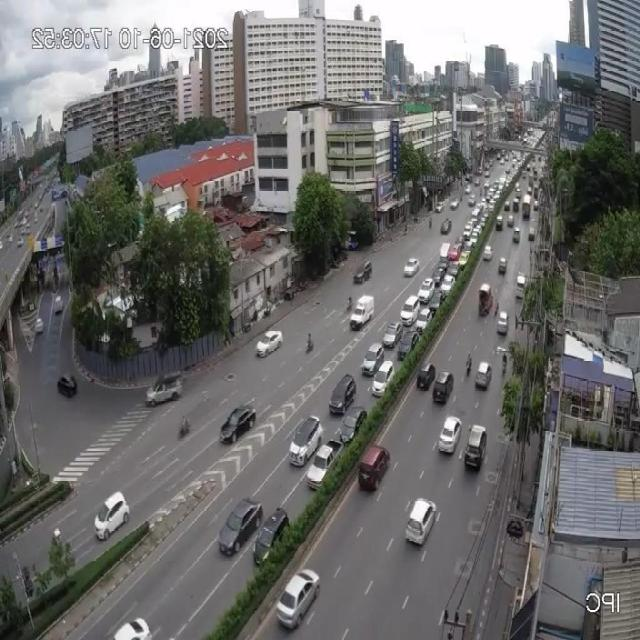Car: (276, 566, 320, 630), (219, 496, 264, 556), (252, 506, 290, 565), (94, 490, 130, 541), (289, 416, 322, 467), (307, 441, 341, 490), (220, 403, 258, 445), (358, 444, 391, 491), (405, 497, 436, 547), (146, 371, 184, 408), (329, 373, 357, 416), (338, 406, 367, 446), (464, 423, 487, 470), (438, 416, 463, 456), (112, 617, 152, 640), (372, 360, 394, 397), (255, 330, 283, 358), (362, 342, 384, 377), (433, 371, 454, 404), (398, 330, 419, 360), (382, 321, 402, 350), (417, 361, 436, 391), (400, 296, 419, 326), (58, 374, 78, 398), (353, 260, 372, 284), (418, 278, 434, 306), (416, 308, 433, 334), (476, 362, 492, 389), (427, 294, 443, 317), (440, 275, 455, 298), (432, 264, 447, 286), (496, 311, 509, 335), (403, 258, 419, 276), (439, 242, 451, 264), (472, 225, 484, 246), (516, 272, 526, 296), (458, 250, 470, 270), (466, 232, 478, 252), (438, 254, 450, 274), (447, 261, 460, 278), (448, 245, 461, 262), (463, 222, 473, 240), (470, 205, 480, 223), (441, 218, 452, 234), (54, 295, 63, 313), (498, 256, 507, 273), (483, 246, 493, 261), (35, 318, 44, 334), (528, 224, 536, 240), (495, 215, 503, 230), (450, 198, 460, 209), (435, 201, 444, 213), (513, 226, 520, 241), (507, 214, 514, 227), (468, 196, 476, 207), (514, 182, 520, 194), (464, 185, 471, 194), (485, 164, 491, 174), (503, 200, 509, 210), (527, 184, 532, 196), (484, 172, 490, 181), (474, 178, 480, 186), (466, 173, 472, 181), (533, 169, 538, 178), (534, 198, 538, 209), (505, 167, 510, 175), (527, 162, 531, 172), (500, 157, 504, 164)
Cycle: (178, 414, 191, 440), (306, 331, 314, 353), (466, 352, 472, 378), (501, 353, 507, 377)
Truck: (350, 293, 374, 330), (477, 282, 494, 318)
